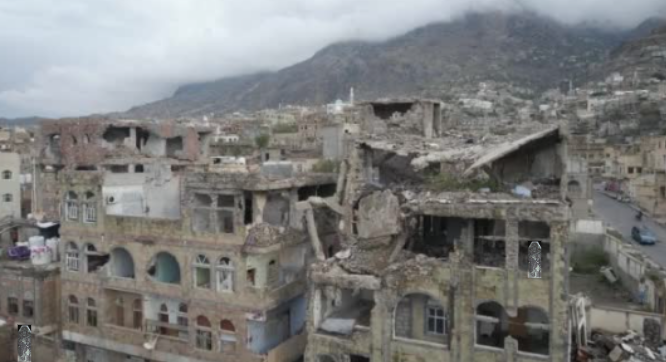HVT1: (18, 325, 31, 362), (528, 241, 541, 277)
